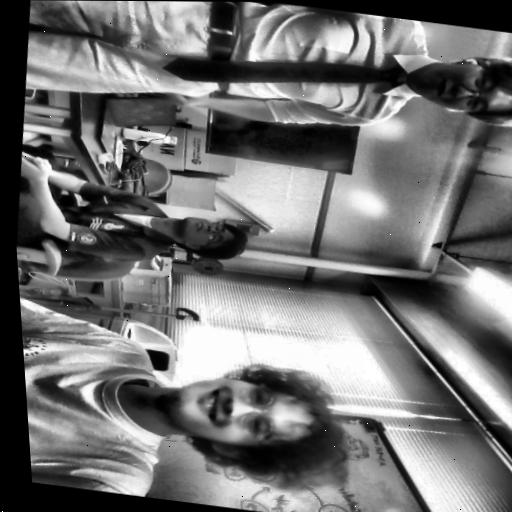Daifuku: (156, 348, 367, 494)
Not Daifuku: (401, 46, 512, 133), (161, 209, 247, 263)
